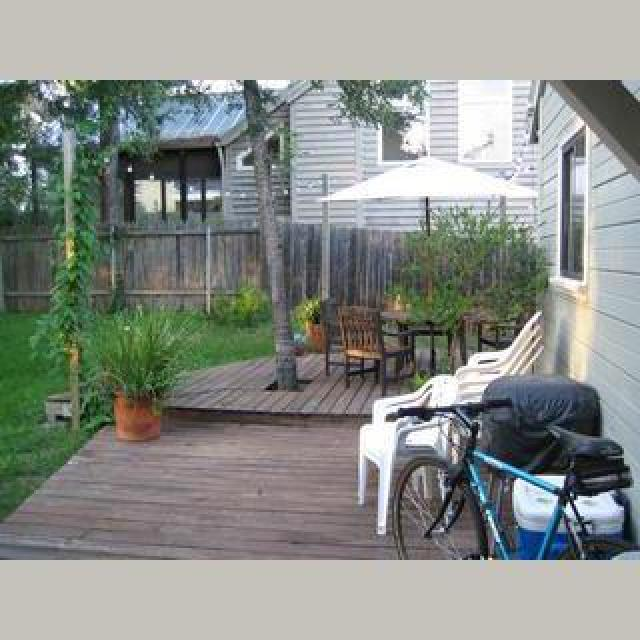Person: (383, 390, 637, 560)
